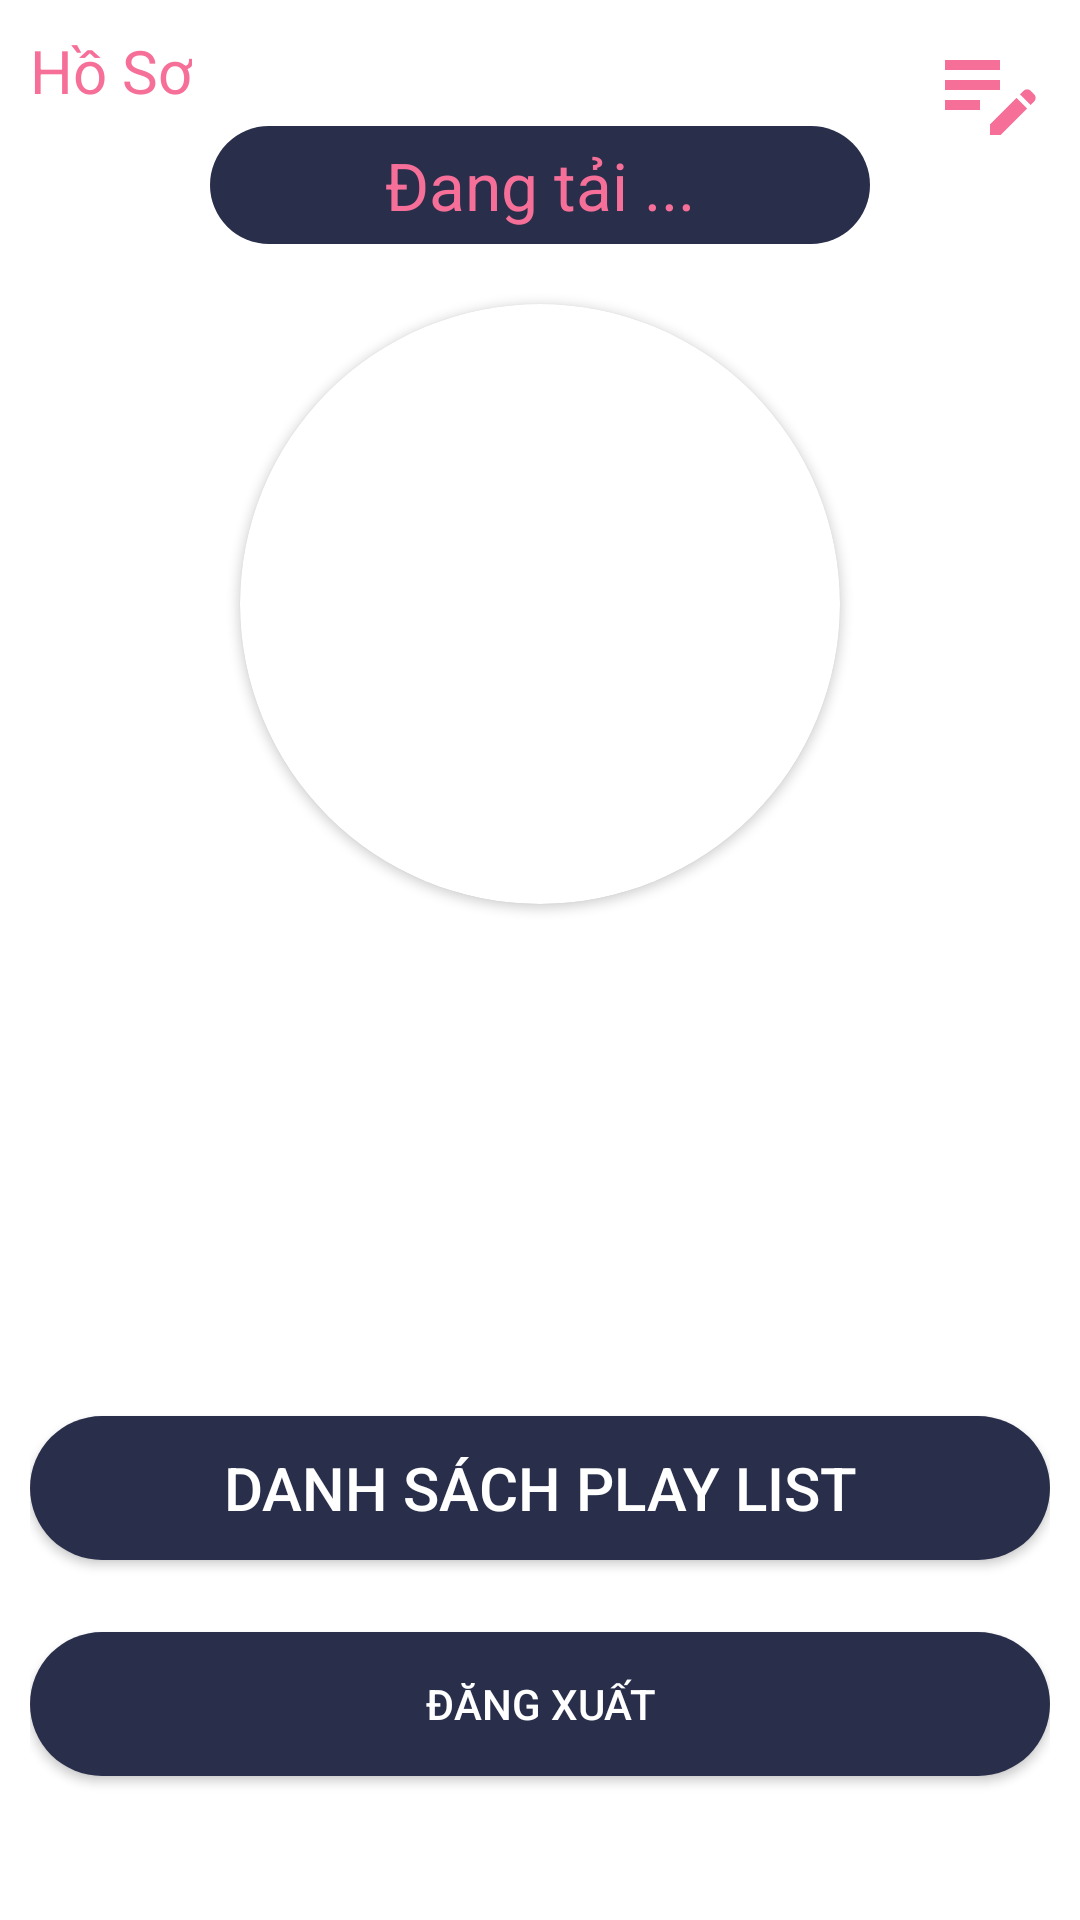

Where to tap for icons on this 1080w x 1920h app screen, as (x=x, y=y):
edit: (x=990, y=97)
